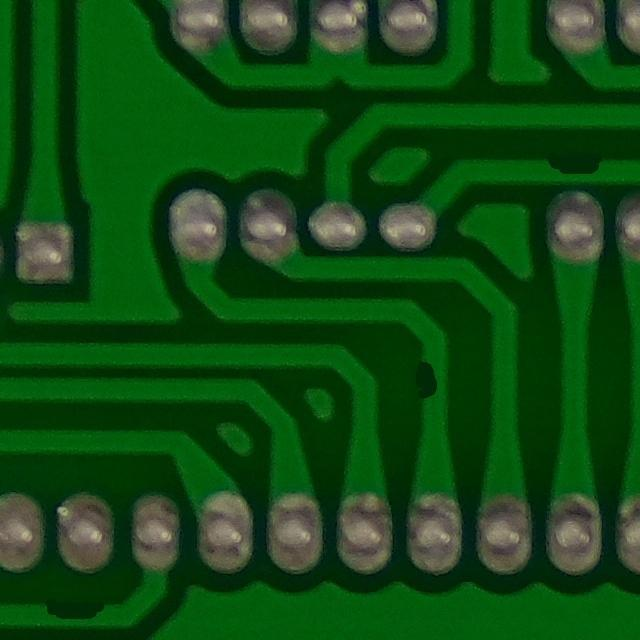mouse_bite: (537, 139, 616, 192), (392, 351, 456, 415), (29, 584, 110, 634)
